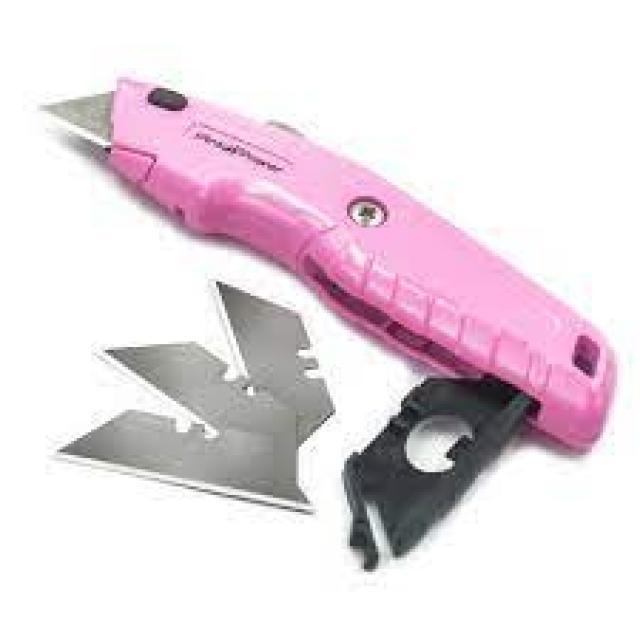cutter: (33, 70, 618, 463)
